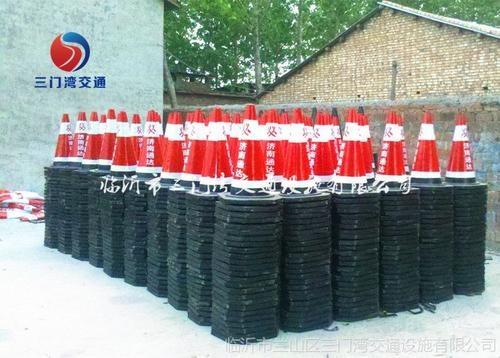cone_barrel: (228, 101, 269, 194), (279, 109, 319, 194), (329, 106, 369, 188), (197, 108, 233, 192), (373, 109, 408, 188), (444, 110, 478, 182), (409, 110, 441, 181), (136, 109, 162, 176), (109, 112, 135, 176), (162, 108, 185, 178), (51, 113, 72, 161), (82, 110, 99, 164), (99, 106, 115, 161), (72, 109, 88, 160)
